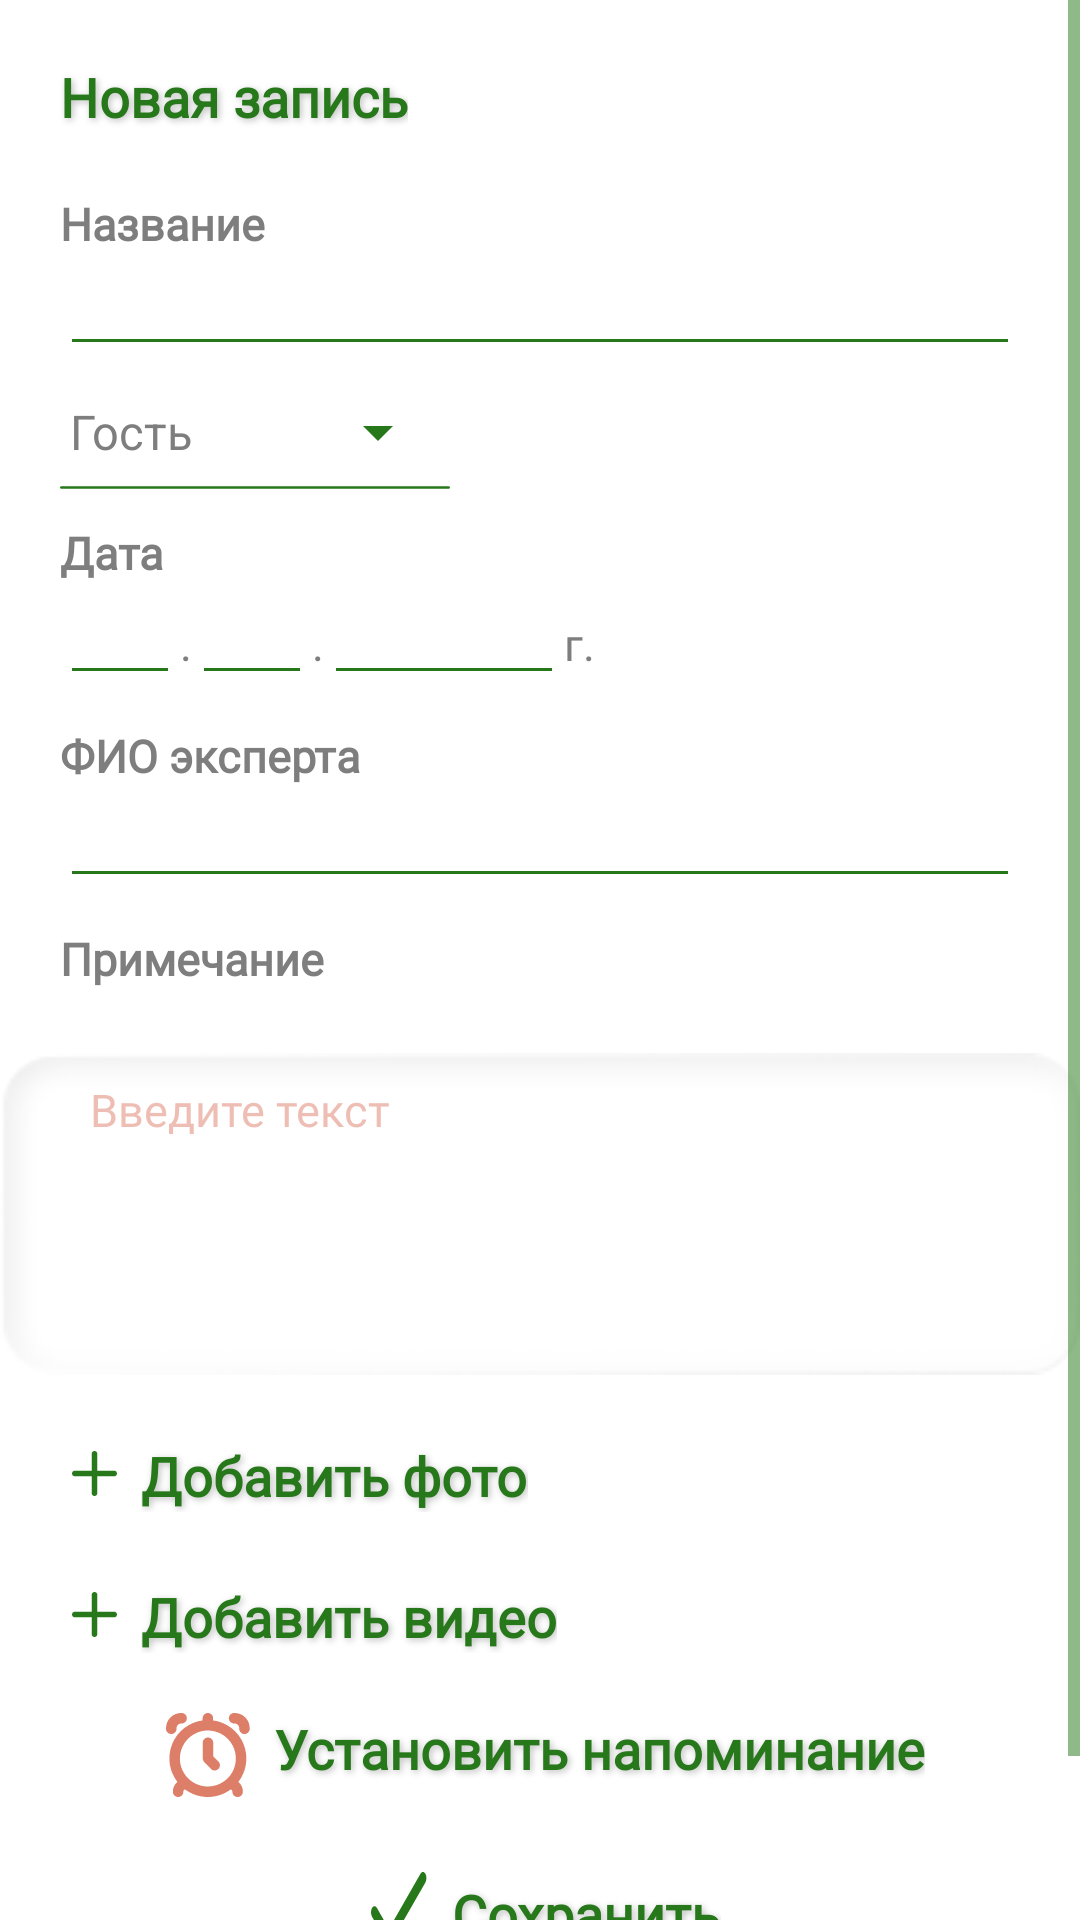

Screen size 1080×1920. Icon name, then its center in pixels as point (x, y):
clock: point (208, 1755)
plus: point (94, 1473), point (94, 1614)
